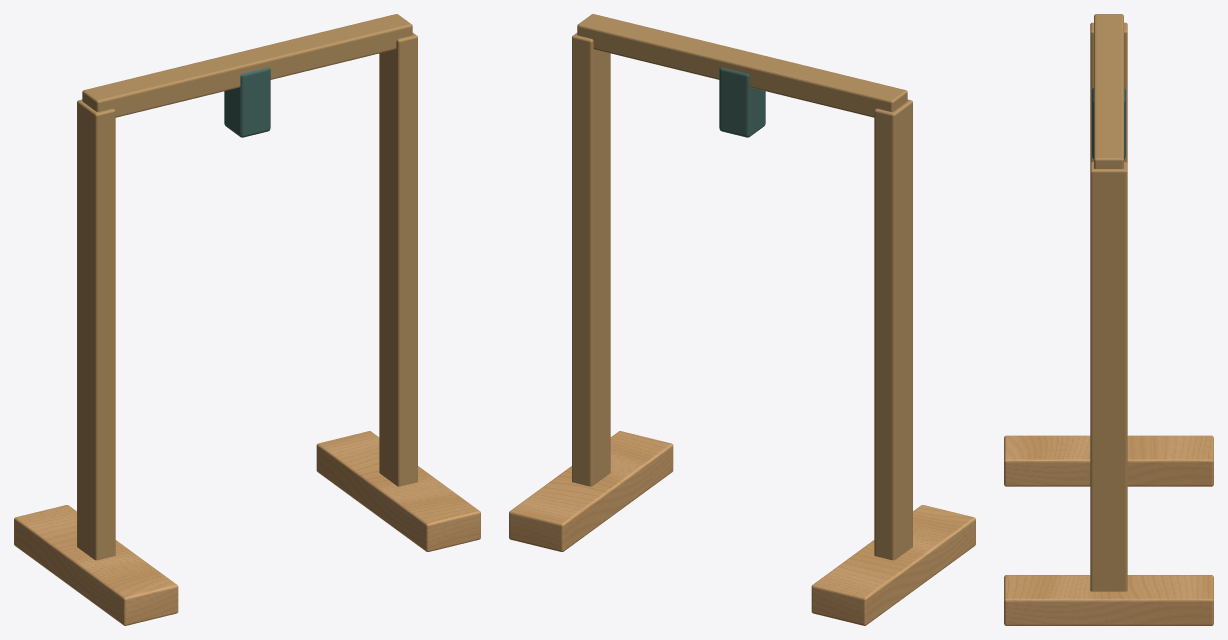
Rendered from stand.glb.
3 renders of one model, left to right at view 1: azimuth 30°, elevation 25°; view 2: azimuth 150°, elevation 25°; view 3: azimuth 270°, elevation 25°, orthographic. The views are drawn at different scales.
Parts seen in each view (by area): view 1: stand; view 2: stand; view 3: stand.
Part boxes in pixels (left/top/right/bottom): stand: left=14, top=14, right=480, bottom=625; stand: left=509, top=14, right=975, bottom=625; stand: left=1004, top=14, right=1213, bottom=625.
Bounding box in the file's own units: 0.052 × 0.0675 × 0.028.
3 materials, 1 textured.
